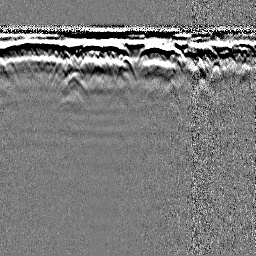cavity: (115, 54, 137, 79)
